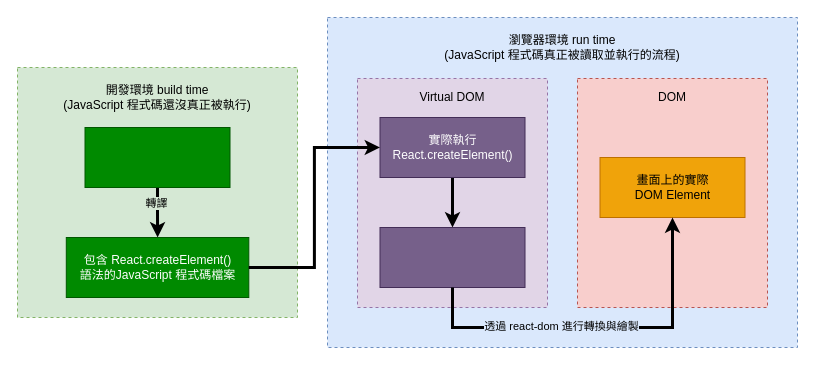
The diagram is 815 pixels wide and 365 high, and some of its shapes have lost their labels. The shapes that lost their labels are listed below. From the top down, each one's centre as x and y in pixels, then its label:
(x=157, y=157): 包含 JSX 語法的 JavaScript 程式碼檔案
(x=452, y=257): 產出的 React Element
